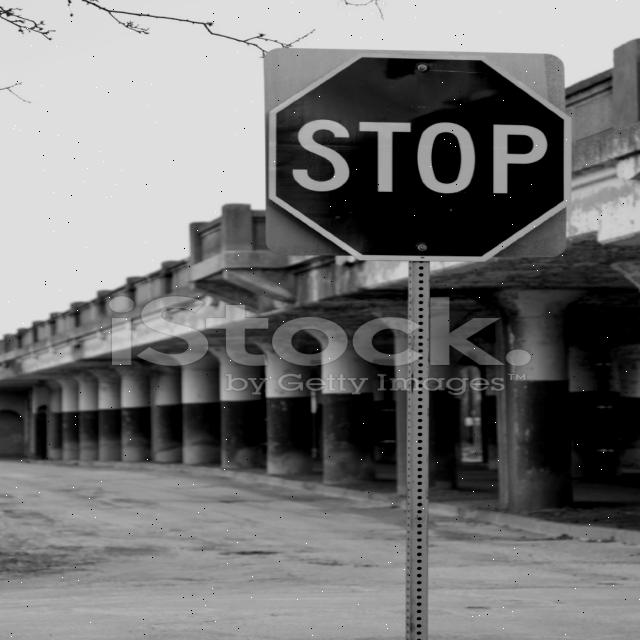Stop-sign: (243, 22, 594, 286)
